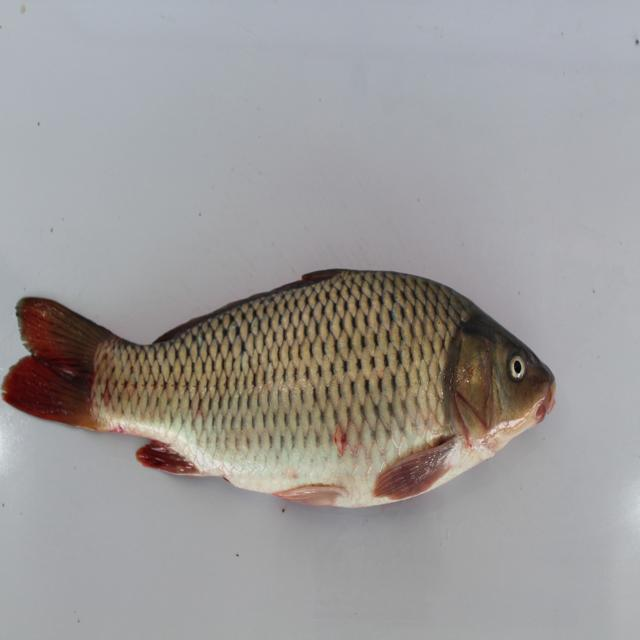Grass Carp: (4, 267, 557, 510)
